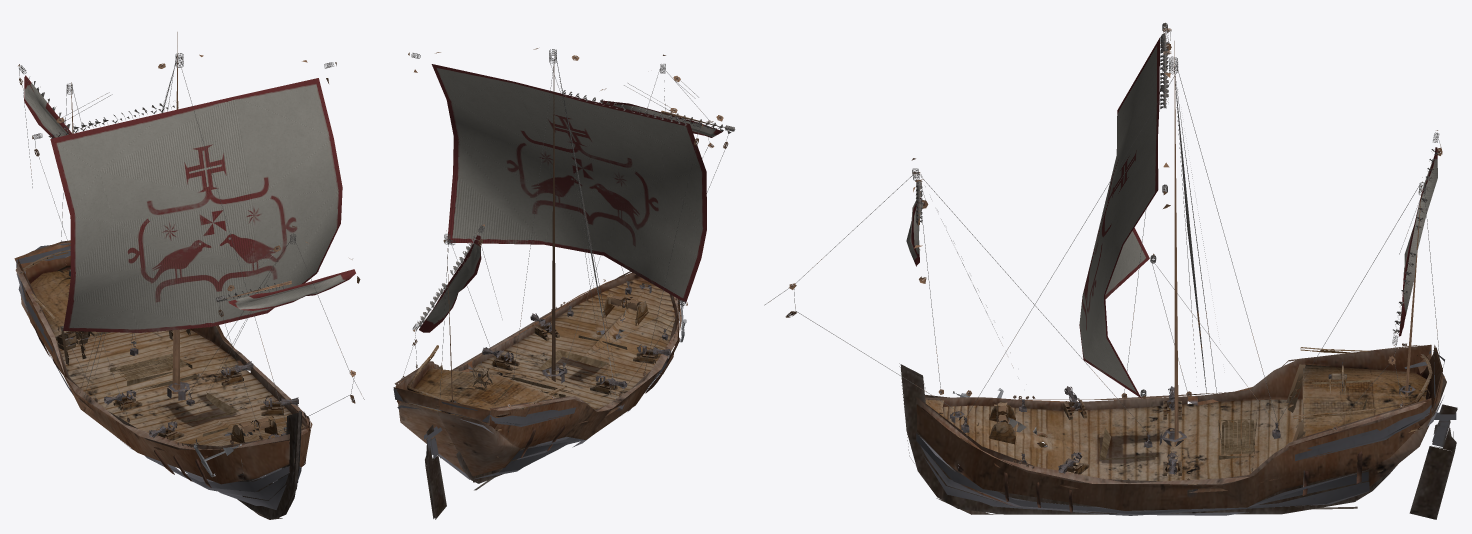
The model's file is cog.glb.
3 renders of one model, left to right at view 1: azimuth 30°, elevation 25°; view 2: azimuth 150°, elevation 25°; view 3: azimuth 270°, elevation 25°, orthographic. The views are drawn at different scales.
Visible parts, largest first — view 1: 0, PoopDeck_lo_Poopdeck_0, Hull_lo_Hull_0, Keel_Hull_0, Sail002_MastsRigging_0, UpperDeck_lo_Poopdeck_0, Sail001_MastsRigging_0, Hatch_Poopdeck_0, HullBackDetailPlate_Hull_0, MidMast_MastsRigging_0, Cannon007_DeckStuff_0, Cannon006_DeckStuff_0 (+3 smaller); view 2: 0, Hull_lo_Hull_0, PoopDeck_lo_Poopdeck_0, UpperDeck_lo_Poopdeck_0, Sail001_MastsRigging_0, Rudder_Hull_0, HullBackDetailPlate_Hull_0, ClimbingRigging_MastsRigging_0, MidMast_MastsRigging_0, Sail002_MastsRigging_0, Fence001_DeckStuff_0, UpperHatch001_lo_Poopdeck_0 (+6 smaller); view 3: Hull_lo_Hull_0, PoopDeck_lo_Poopdeck_0, 0, UpperDeck_lo_Poopdeck_0, Keel_Hull_0, Rudder_Hull_0, HullBackDetailPlate_Hull_0, Sail001_MastsRigging_0, ClimbingRigging_MastsRigging_0, Hatch_Poopdeck_0, MidMast_MastsRigging_0, Fence001_DeckStuff_0.
Part boxes in pixels (x1,y1,x2,y2): 0: [50, 78, 342, 332]; PoopDeck_lo_Poopdeck_0: [56, 329, 304, 446]; Hull_lo_Hull_0: [14, 240, 312, 509]; Keel_Hull_0: [237, 410, 301, 519]; Sail002_MastsRigging_0: [228, 269, 355, 310]; UpperDeck_lo_Poopdeck_0: [28, 265, 70, 336]; Sail001_MastsRigging_0: [24, 75, 72, 138]; Hatch_Poopdeck_0: [110, 353, 192, 385]; HullBackDetailPlate_Hull_0: [16, 243, 70, 360]; MidMast_MastsRigging_0: [172, 45, 180, 393]; Cannon007_DeckStuff_0: [215, 361, 253, 385]; Cannon006_DeckStuff_0: [260, 397, 298, 415]; 0: [431, 64, 706, 302]; Hull_lo_Hull_0: [393, 271, 681, 479]; PoopDeck_lo_Poopdeck_0: [448, 274, 674, 444]; UpperDeck_lo_Poopdeck_0: [408, 368, 556, 457]; Sail001_MastsRigging_0: [419, 235, 481, 332]; Rudder_Hull_0: [424, 425, 446, 519]; HullBackDetailPlate_Hull_0: [393, 388, 576, 426]; ClimbingRigging_MastsRigging_0: [556, 56, 617, 404]; MidMast_MastsRigging_0: [551, 50, 555, 381]; Sail002_MastsRigging_0: [600, 100, 722, 137]; Fence001_DeckStuff_0: [407, 345, 566, 417]; UpperHatch001_lo_Poopdeck_0: [539, 349, 608, 370]; Hull_lo_Hull_0: [916, 344, 1446, 515]; PoopDeck_lo_Poopdeck_0: [925, 399, 1302, 485]; 0: [1079, 38, 1159, 398]; UpperDeck_lo_Poopdeck_0: [1302, 364, 1429, 472]; Keel_Hull_0: [899, 363, 1397, 514]; Rudder_Hull_0: [1409, 404, 1457, 519]; HullBackDetailPlate_Hull_0: [1295, 348, 1444, 461]; Sail001_MastsRigging_0: [1399, 147, 1437, 336]; ClimbingRigging_MastsRigging_0: [1173, 64, 1216, 393]; Hatch_Poopdeck_0: [1218, 419, 1256, 459]; MidMast_MastsRigging_0: [1174, 41, 1178, 445]; Fence001_DeckStuff_0: [1293, 347, 1432, 418].
Bounding box in the file's own units: 3.76 × 5.22 × 6.55.
Materials: 5 (5 with a texture image).
